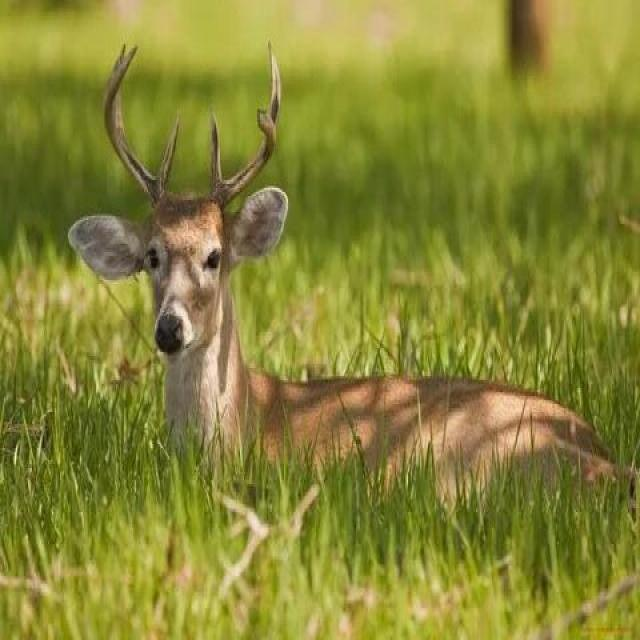deer: (55, 91, 592, 588)
